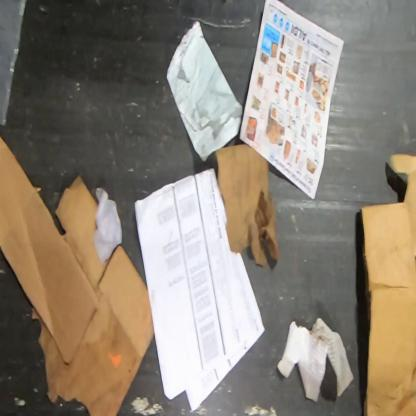cardboard: (30, 173, 156, 415), (0, 136, 100, 366), (358, 152, 415, 415)
soft_plastic: (0, 0, 29, 127)
